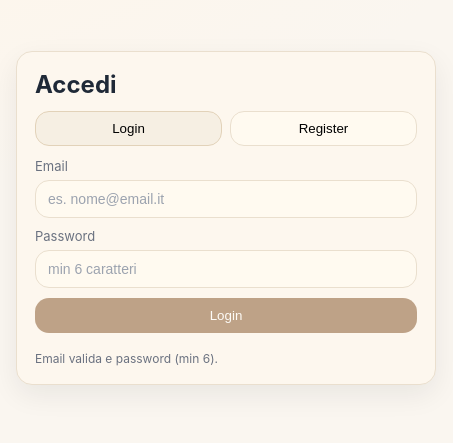
Test: AuthPage › passando a Register appare il campo nome
Click the button "Register" at (324, 128), box [230,111,417,146]
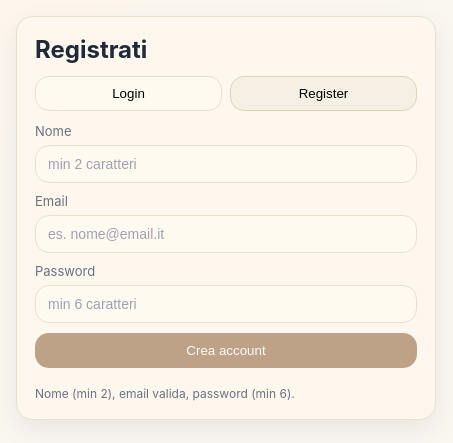
Expected: the field with placeholder "min 2 caratteri" is shown, [35,145,417,183]
